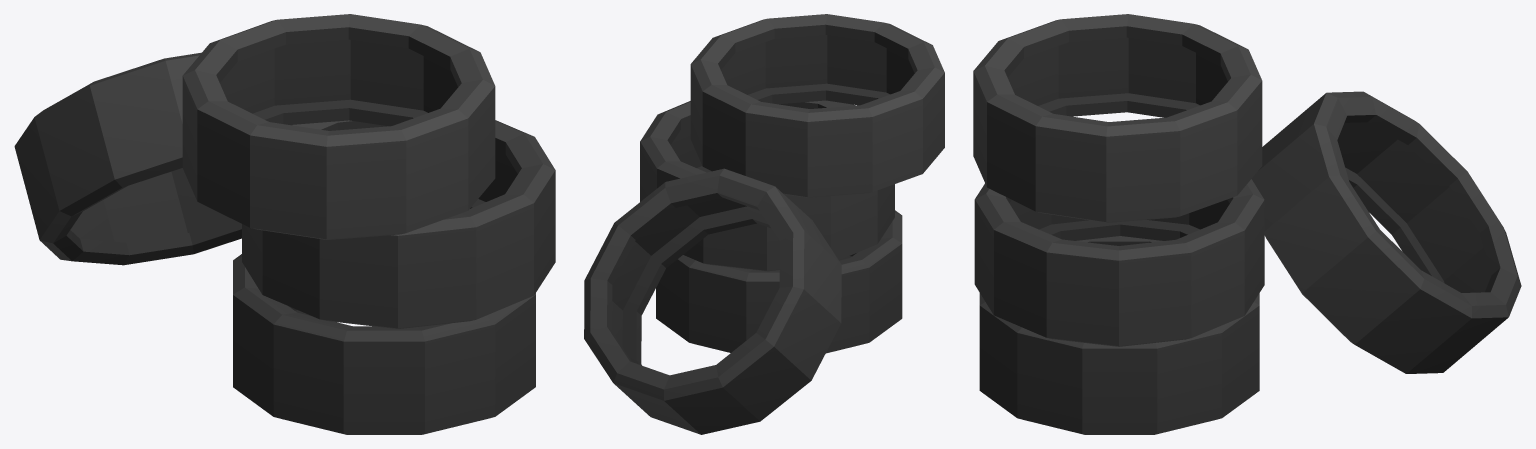
The model's file is Prop_Tire_Pile_01.obj.
3 views of the same model, side by side, from view 1: azimuth 30°, elevation 25°; view 2: azimuth 150°, elevation 25°; view 3: azimuth 270°, elevation 25° (orthographic). The views are drawn at different scales.
Visible parts, largest first — view 1: Prop_Tire_Pile_01; view 2: Prop_Tire_Pile_01; view 3: Prop_Tire_Pile_01.
Boxes of the visible parts, x1,y1,x2,y2 form: Prop_Tire_Pile_01: (14, 14, 555, 434); Prop_Tire_Pile_01: (584, 14, 944, 434); Prop_Tire_Pile_01: (973, 14, 1521, 434).
Bounding box in the file's own units: 1.07 × 0.9149 × 1.57.
Materials: 1 (1 with a texture image).
